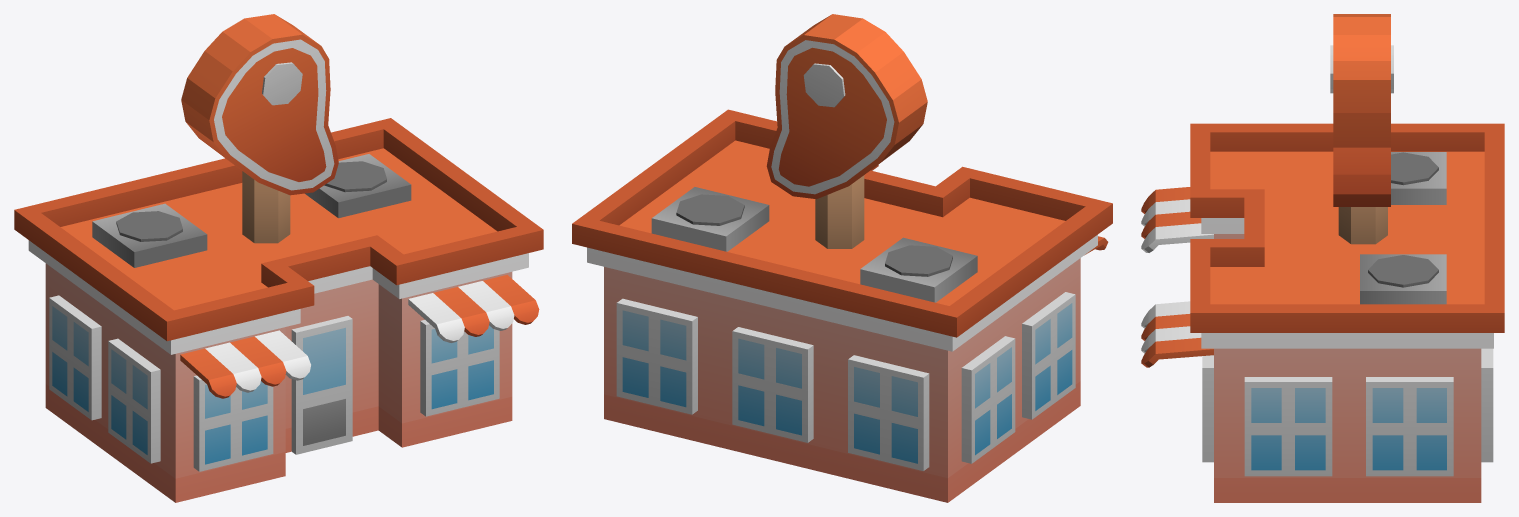
Rendered from butcher shop.fbx.
3 views of the same model, side by side, from view 1: azimuth 30°, elevation 25°; view 2: azimuth 150°, elevation 25°; view 3: azimuth 270°, elevation 25° (orthographic). The views are drawn at different scales.
Visible parts, largest first — view 1: butcher_shop; view 2: butcher_shop; view 3: butcher_shop.
Boxes of the visible parts, x1=… form: butcher_shop: x1=14, y1=14, x2=543, y2=502; butcher_shop: x1=572, y1=14, x2=1112, y2=502; butcher_shop: x1=1141, y1=14, x2=1504, y2=502.
Bounding box in the file's own units: 673 × 655 × 546.
1 material, 1 textured.
